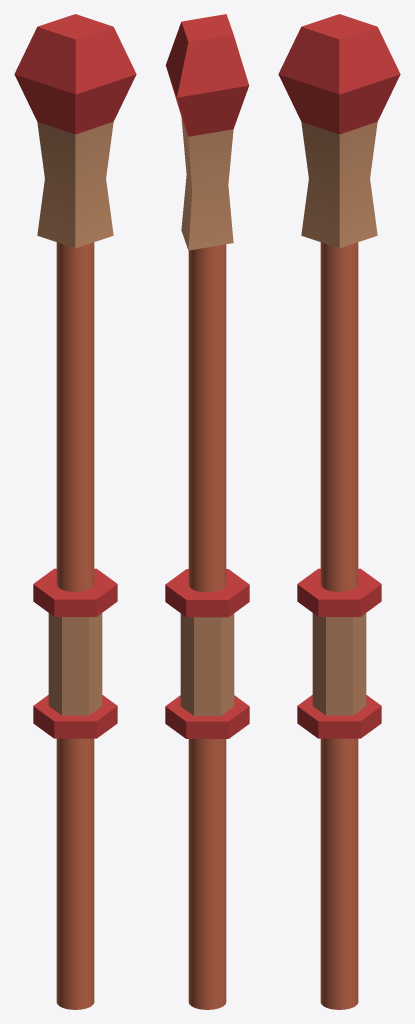
File: Staff.fbx
3 renders of one model, left to right at view 1: azimuth 90°, elevation 25°; view 2: azimuth 150°, elevation 25°; view 3: azimuth 270°, elevation 25°, orthographic.
Visible parts, largest first — view 1: mergedBlocks; view 2: mergedBlocks; view 3: mergedBlocks.
Boxes of the visible parts, x1,y1,x2,y2 form: mergedBlocks: [14, 14, 136, 1009]; mergedBlocks: [165, 14, 249, 1009]; mergedBlocks: [278, 14, 400, 1009].
Size of the model in its own units: 2.51 by 28 by 3.18.
